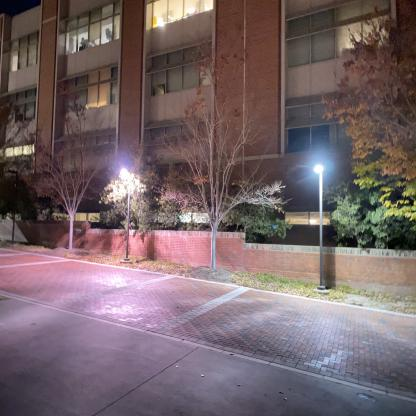eb2: (5, 6, 416, 252)
